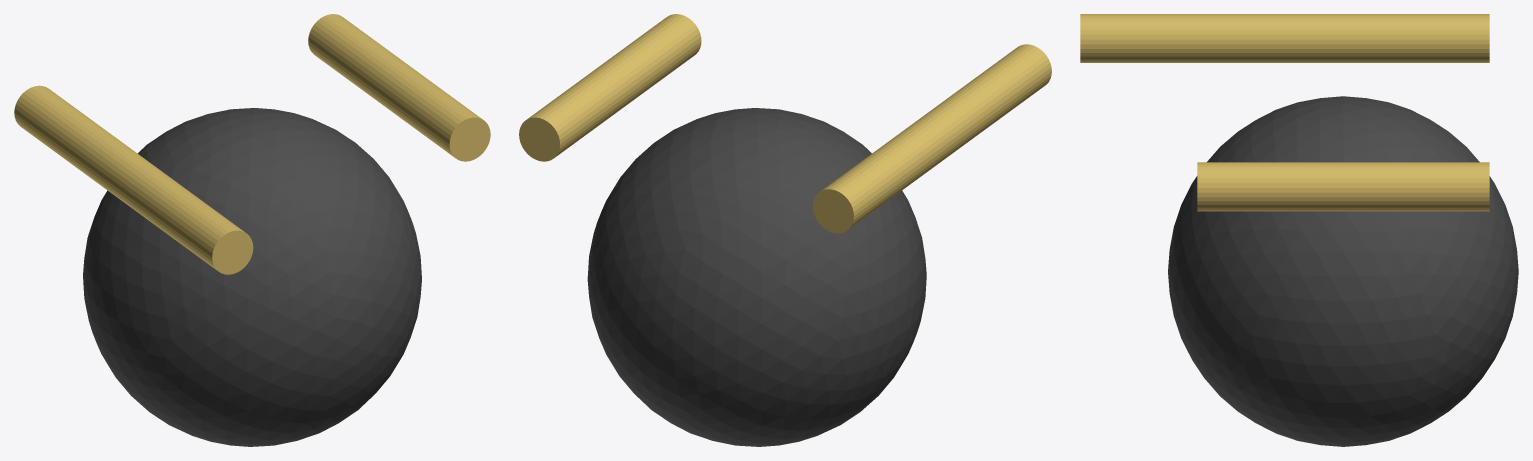
Rendered from bee.glb.
3 views of the same model, side by side, from view 1: azimuth 30°, elevation 25°; view 2: azimuth 150°, elevation 25°; view 3: azimuth 270°, elevation 25° (orthographic). The views are drawn at different scales.
Visible parts, largest first — view 1: body, stripes_1_2, legs_6_5, abdomen_0_0, legs_6_1, legs_6_0, stripes_1_1, legs_6_4; view 2: body, legs_6_1, stripes_1_2, legs_6_0, abdomen_0_0, stripes_1_1, legs_6_5, legs_6_4; view 3: body, stripes_1_1, stripes_1_2, abdomen_0_0, legs_6_1, legs_6_5, legs_6_0, legs_6_4.
Part boxes in pixels (box(x1,y1,x2,y2)): body: box(83, 108, 421, 446); stripes_1_2: box(127, 168, 253, 274); legs_6_5: box(365, 55, 490, 161); abdomen_0_0: box(42, 106, 160, 208); legs_6_1: box(308, 14, 426, 116); legs_6_0: box(14, 85, 130, 177); stripes_1_1: box(336, 34, 449, 130); legs_6_4: box(71, 127, 187, 217); body: box(587, 108, 926, 446); legs_6_1: box(519, 55, 644, 161); stripes_1_2: box(940, 44, 1051, 145); legs_6_0: box(813, 127, 938, 233); abdomen_0_0: box(852, 106, 966, 205); stripes_1_1: box(557, 34, 672, 136); legs_6_5: box(593, 14, 701, 104); legs_6_4: box(877, 85, 994, 187); body: box(1168, 96, 1518, 446); stripes_1_1: box(1255, 162, 1430, 211); stripes_1_2: box(1080, 14, 1255, 62); abdomen_0_0: box(1255, 14, 1430, 62); legs_6_1: box(1314, 162, 1489, 211); legs_6_5: box(1197, 162, 1372, 211); legs_6_0: box(1314, 14, 1489, 62); legs_6_4: box(1197, 14, 1372, 62).
Size of the model in its own units: 0.342 by 0.321 by 0.375.
